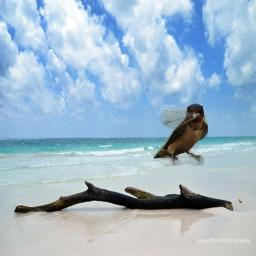Swallow: (153, 103, 208, 166)
